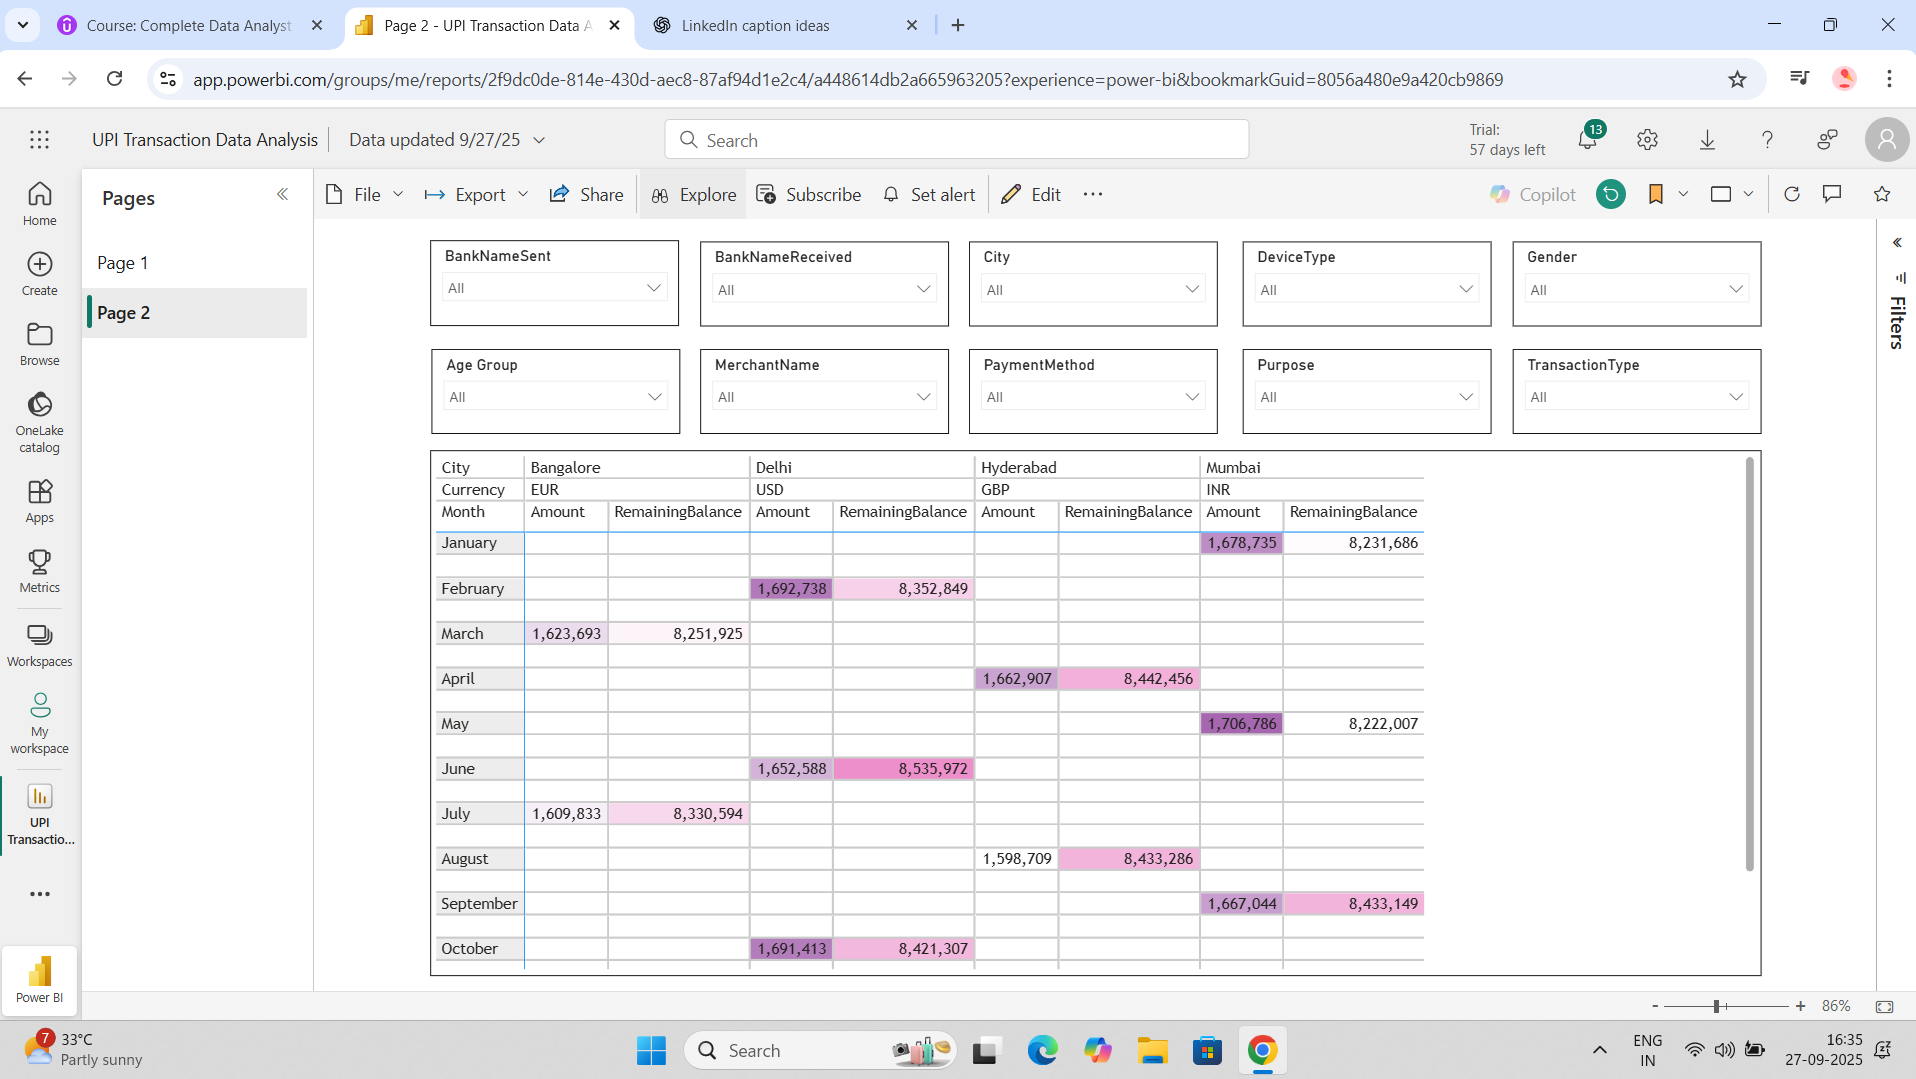

The dashboard page shown, as its layout file describes it:
{"tool":"powerbi","page":{"name":"Page 2","canvas":[1280,720],"ordinal":1},"visuals":[{"type":"slicer","fields":{"Values":["UPI transaction.BankNameSent"]},"box":[20,20,232,80],"z":0},{"type":"slicer","fields":{"Values":["UPI transaction.BankNameReceived"]},"box":[271.7,20.6,231.9,79.6],"z":1000},{"type":"slicer","fields":{"Values":["UPI transaction.City"]},"box":[522.8,20.6,231.9,79.6],"z":2000},{"type":"slicer","fields":{"Values":["UPI transaction.DeviceType"]},"box":[778,20.6,231.9,79.6],"z":3000},{"type":"slicer","fields":{"Values":["UPI transaction.Gender"]},"box":[1029.2,20.6,231.9,79.6],"z":4000},{"type":"slicer","fields":{"Values":["UPI transaction.Age Group"]},"box":[20.6,120.8,231.9,79.6],"z":5000},{"type":"slicer","fields":{"Values":["UPI transaction.MerchantName"]},"box":[271.7,120.8,231.9,79.6],"z":6000},{"type":"slicer","fields":{"Values":["UPI transaction.PaymentMethod"]},"box":[522.8,120.8,231.9,79.6],"z":7000},{"type":"slicer","fields":{"Values":["UPI transaction.Purpose"]},"box":[778,120.8,231.9,79.6],"z":8000},{"type":"slicer","fields":{"Values":["UPI transaction.TransactionType"]},"box":[1029.2,120.8,231.9,79.6],"z":9000},{"type":"pivotTable","fields":{"Values":["Sum(UPI transaction.Amount)","Sum(UPI transaction.RemainingBalance)"],"Rows":["UPI transaction.TransactionDate.Variation.Date Hierarchy.Month"],"Columns":["UPI transaction.City","UPI transaction.Currency"]},"box":[20,216.2,1241.2,490],"z":9001}]}

Visuals, with their boxes on the page's 1280x720 design canvas (x1, y1, x2, y2). These are canvas units, not pixel positions in the 1916x1079 screenshot, which may show the page scaled, cropped or inside an application window:
slicer - UPI transaction.BankNameSent: {"left": 20, "top": 20, "right": 252, "bottom": 100}
slicer - UPI transaction.BankNameReceived: {"left": 272, "top": 21, "right": 504, "bottom": 100}
slicer - UPI transaction.City: {"left": 523, "top": 21, "right": 755, "bottom": 100}
slicer - UPI transaction.DeviceType: {"left": 778, "top": 21, "right": 1010, "bottom": 100}
slicer - UPI transaction.Gender: {"left": 1029, "top": 21, "right": 1261, "bottom": 100}
slicer - UPI transaction.Age Group: {"left": 21, "top": 121, "right": 252, "bottom": 200}
slicer - UPI transaction.MerchantName: {"left": 272, "top": 121, "right": 504, "bottom": 200}
slicer - UPI transaction.PaymentMethod: {"left": 523, "top": 121, "right": 755, "bottom": 200}
slicer - UPI transaction.Purpose: {"left": 778, "top": 121, "right": 1010, "bottom": 200}
slicer - UPI transaction.TransactionType: {"left": 1029, "top": 121, "right": 1261, "bottom": 200}
pivotTable - Sum(UPI transaction.Amount) x Sum(UPI transaction.RemainingBalance): {"left": 20, "top": 216, "right": 1261, "bottom": 706}
